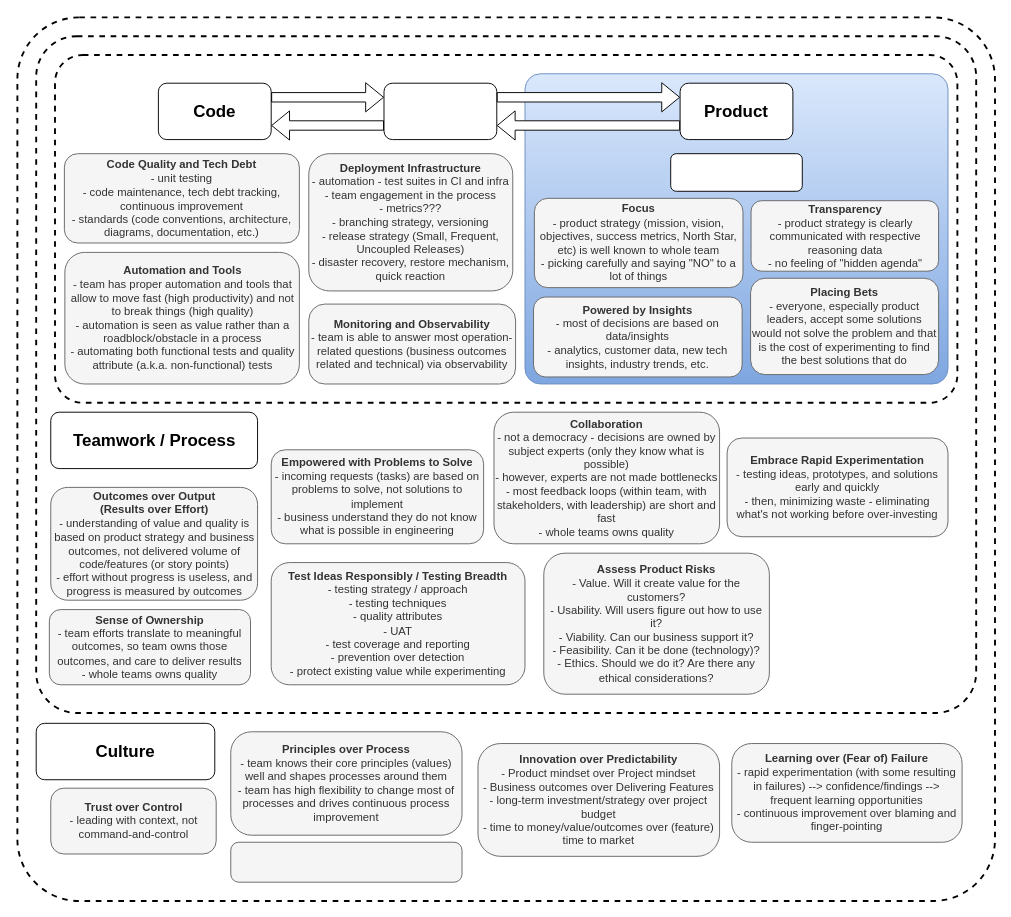
This 1011x917 diagram has some shape labels left out. The shapes that lost their labels are listed below. From the top down, each one's centre as x and y in pixels, then its label:
pixel 440 111: System
pixel 736 172: Product Strategy
pixel 346 861: Well-being and Satisfaction
